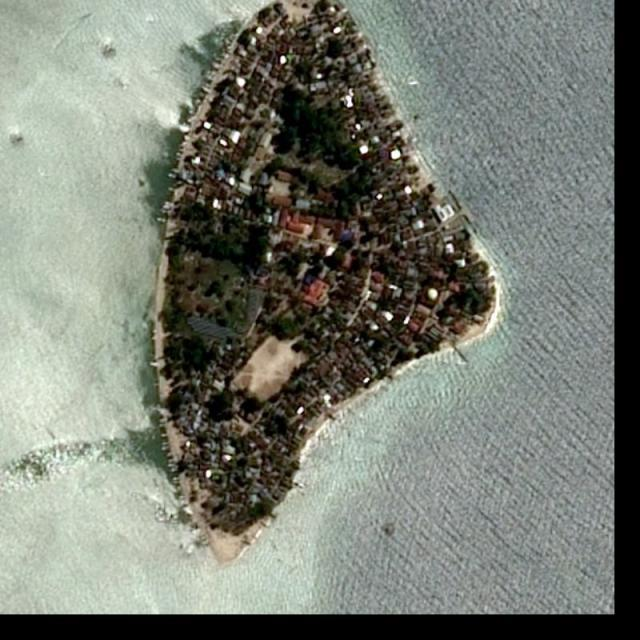ship: (82, 11, 92, 19), (409, 80, 419, 86)
